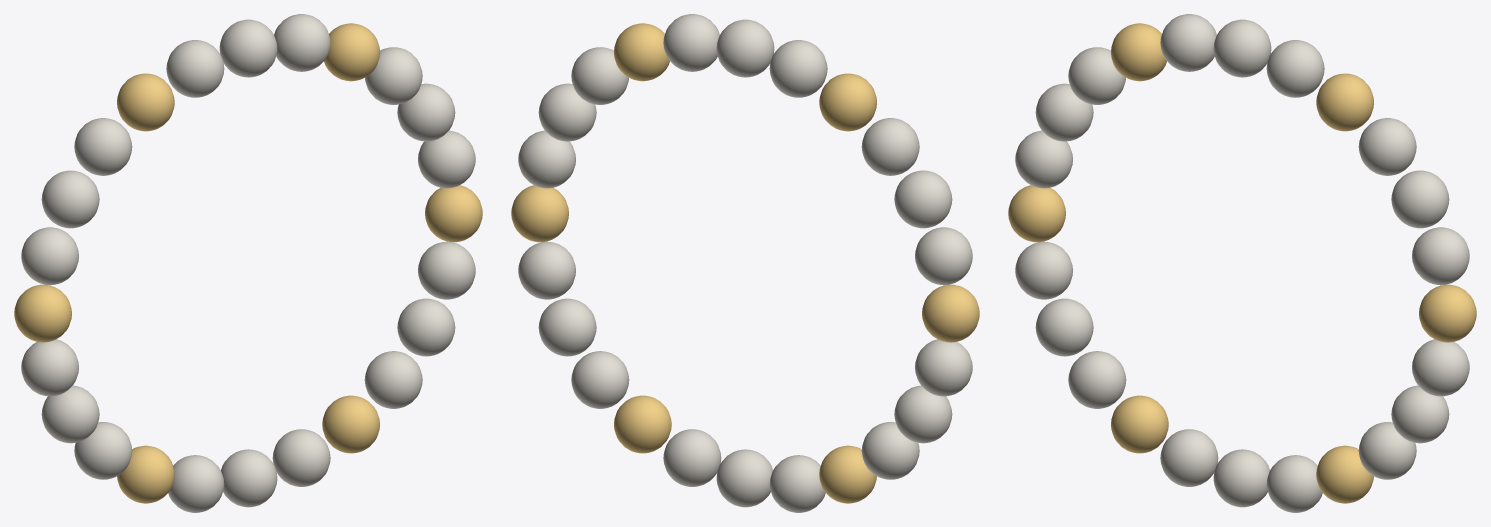
3 views of the same model, side by side, from view 1: azimuth 30°, elevation 25°; view 2: azimuth 150°, elevation 25°; view 3: azimuth 330°, elevation 25° (orthographic).
Bounding box in the file's own units: 2.02 × 2.02 × 0.22.
